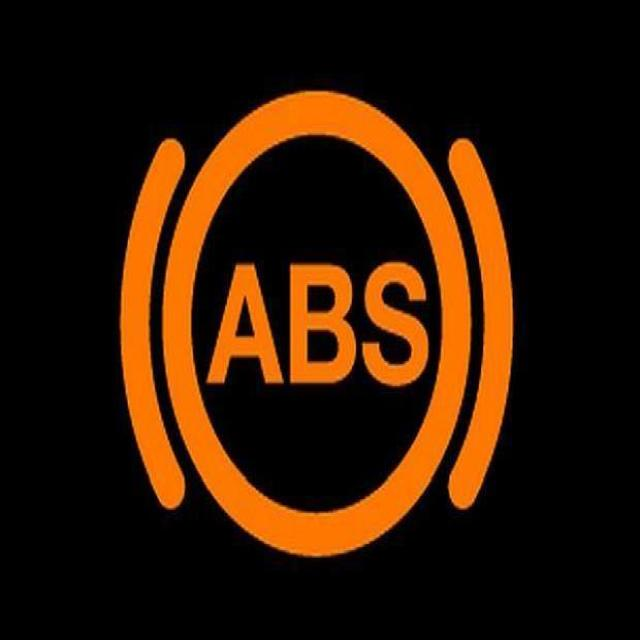kontrolka: (97, 68, 548, 578)
